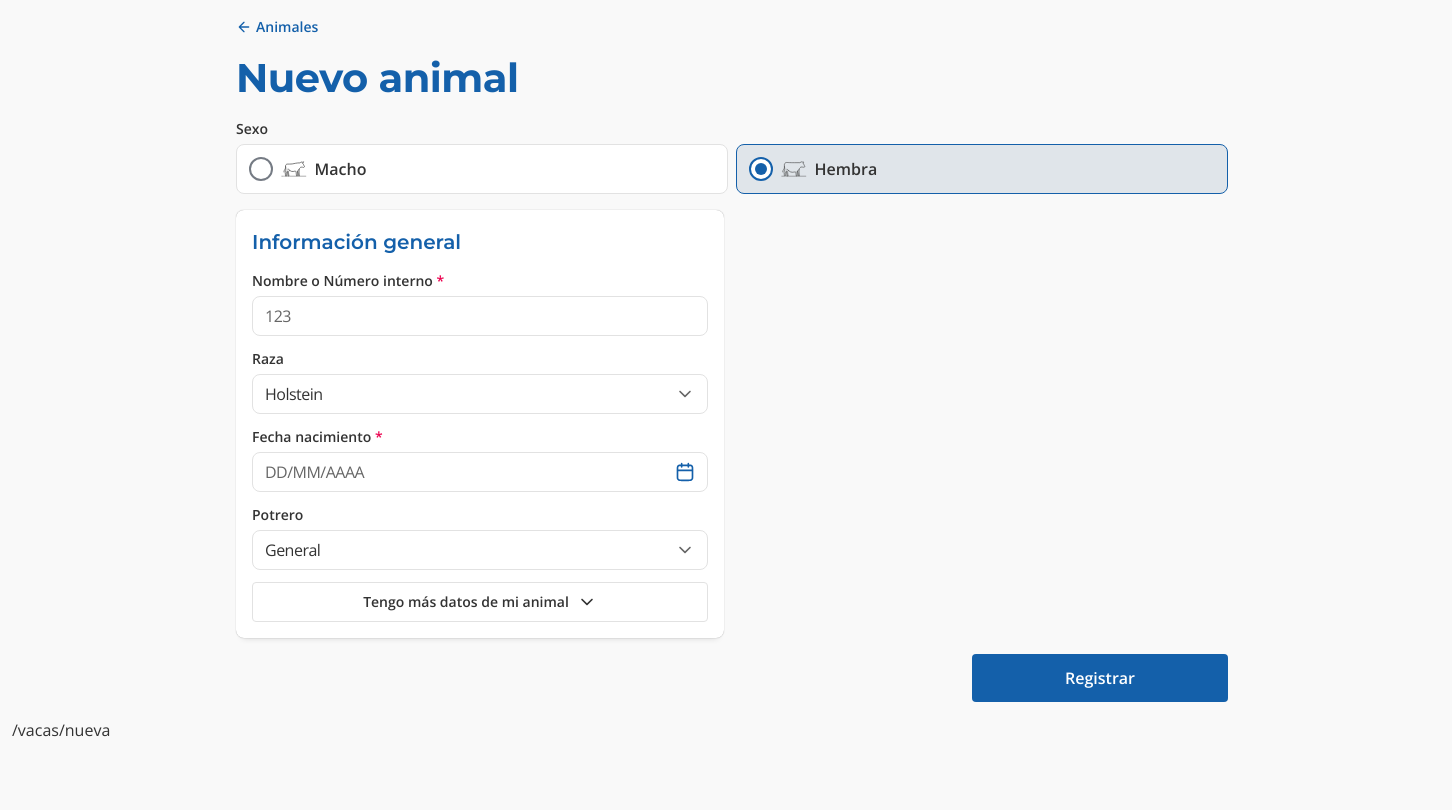
it: quick registration › marks the required fields and shows the toast instead of sending
Click the button "Registrar": click(1100, 678) x1=972 y1=654 x2=1228 y2=702
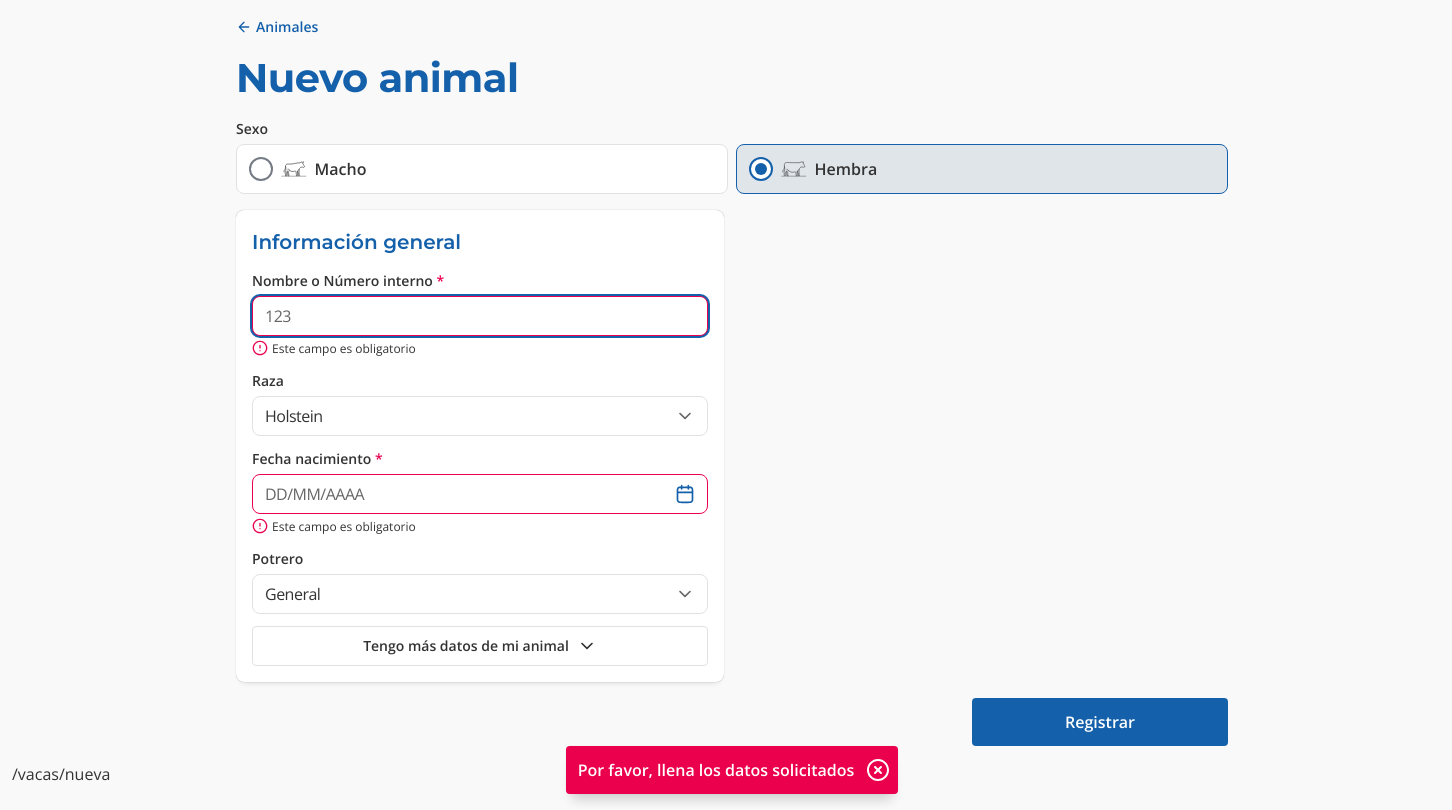
Expected: the text "Este campo es obligatorio" is shown 2 times, x1=252 y1=340 x2=416 y2=357; x1=252 y1=518 x2=416 y2=535
Expected: the text "Por favor, llena los datos solicitados" is shown, x1=578 y1=758 x2=854 y2=782
